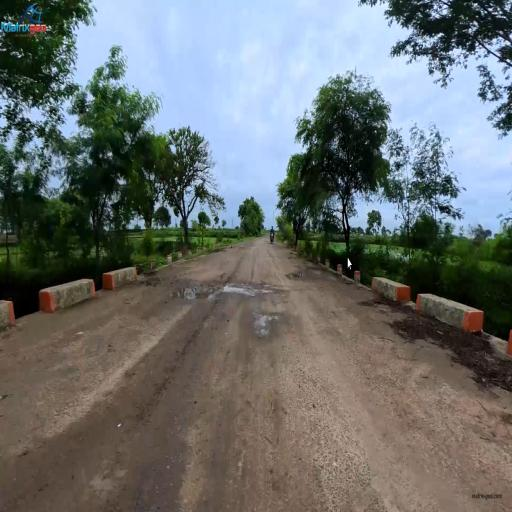pothole: (178, 273, 294, 346)
